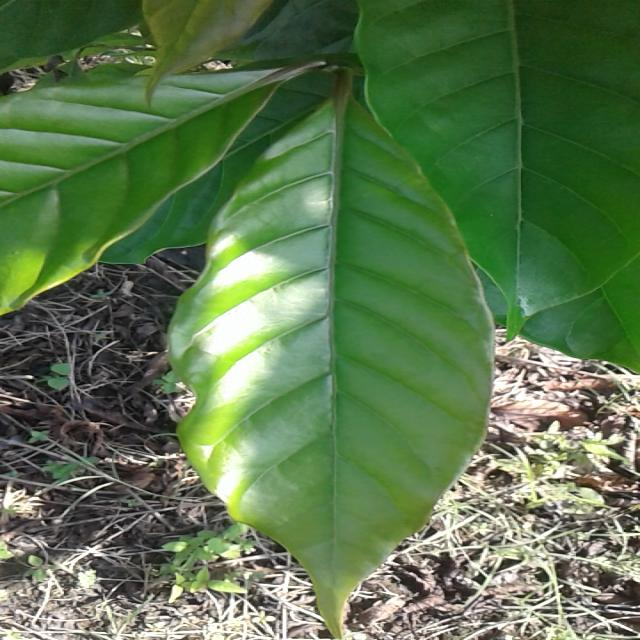Sanas: (166, 72, 502, 640)
